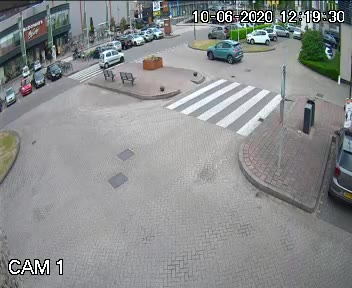car: (202, 41, 242, 65), (92, 46, 125, 68)
